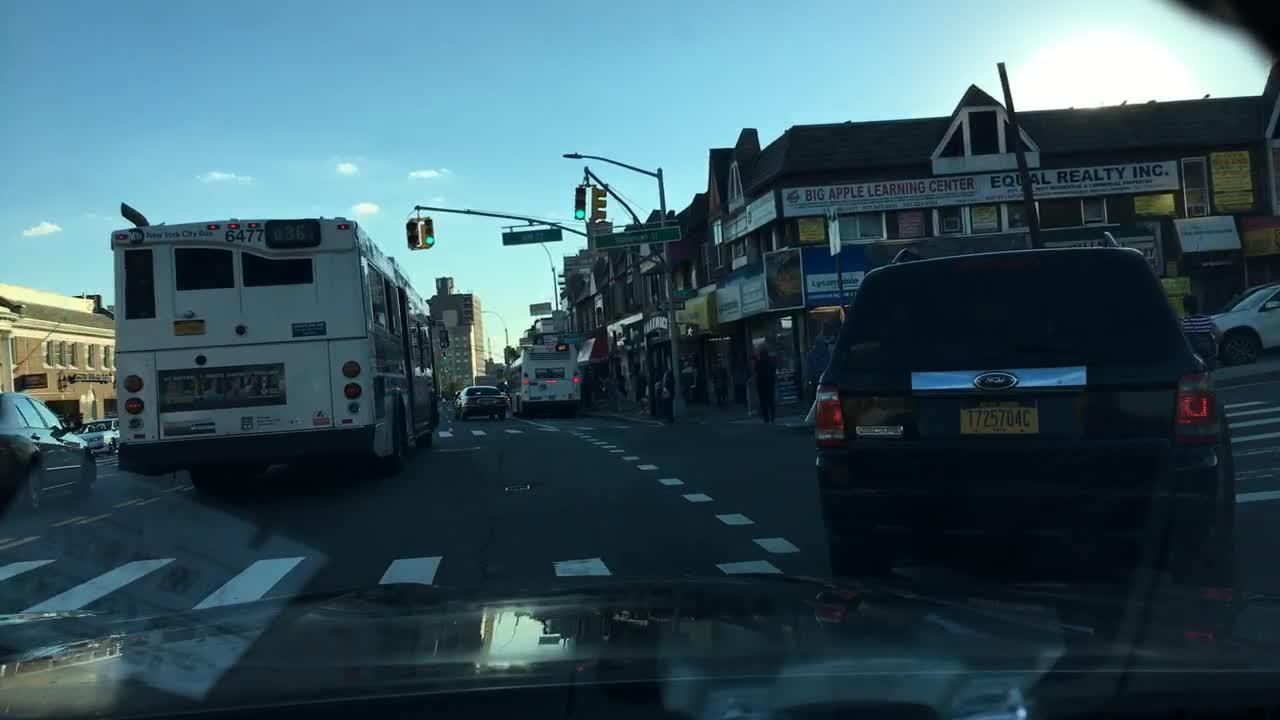ford: (971, 363, 1023, 396)
